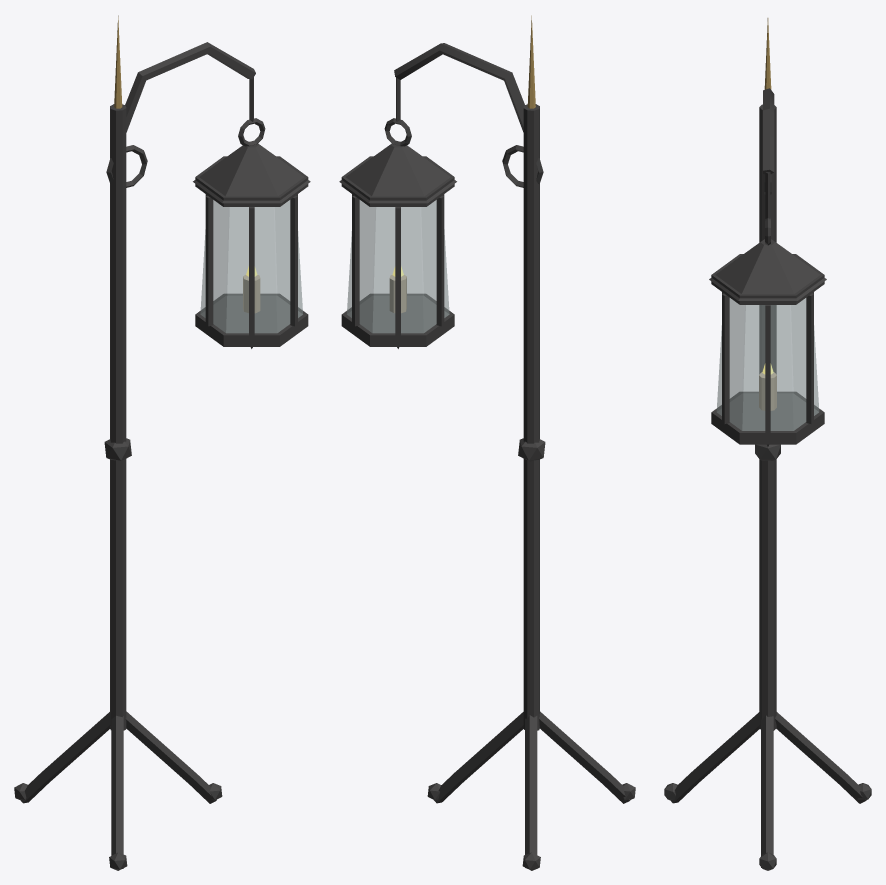
The model's file is lantern_stand.glb.
The picture shows the model from 3 angles, left to right: view 1: azimuth 30°, elevation 25°; view 2: azimuth 150°, elevation 25°; view 3: azimuth 270°, elevation 25°; orthographic projection.
Parts seen in each view (by area): view 1: lantern_stand; view 2: lantern_stand; view 3: lantern_stand.
Part boxes in pixels (x1,y1,x2,y2): lantern_stand: [14, 15, 310, 870]; lantern_stand: [339, 15, 635, 870]; lantern_stand: [664, 18, 871, 870].
Size of what is drawn, in the model's own units: 0.7876 by 2.61 by 0.6053.
